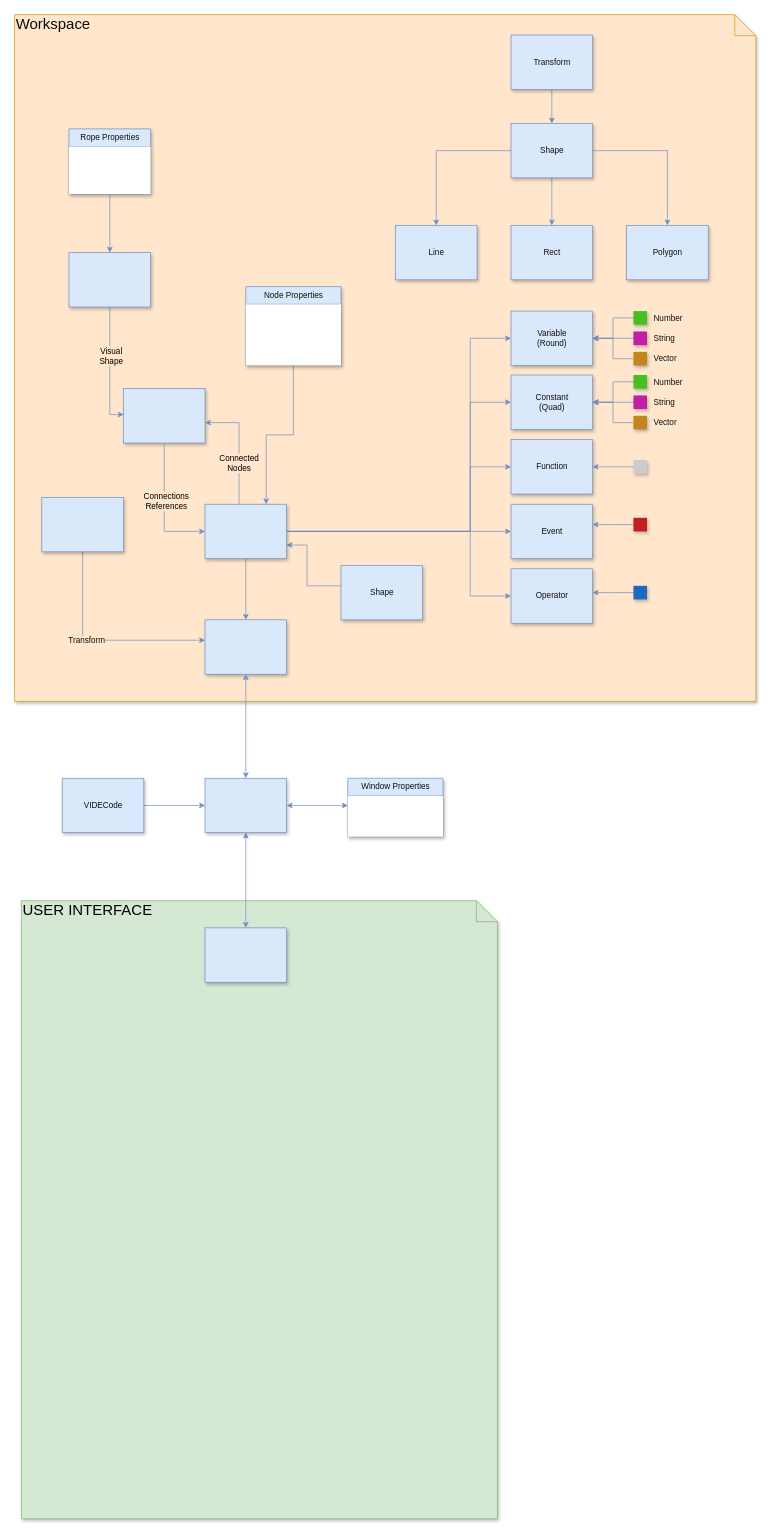
The diagram is 772 pixels wide and 1535 high, and some of its shapes have lost their labels. Each missing label, with the centre of its shape:
"Camera" belongs at (x=83, y=525).
"Connection" belongs at (x=164, y=416).
"From:Point To:Point Control:Point ..." belongs at (x=110, y=171).
"GUI" belongs at (x=246, y=955).
"Nodes" belongs at (x=246, y=532).
"Position:Point Name:String Inputs:Connection Outputs:Connection ..." belongs at (x=294, y=335).
"Rope" belongs at (x=110, y=280).
"Scene" belongs at (x=246, y=647).
"title:string width:number height:number ..." belongs at (x=396, y=817).
"Window (main)" belongs at (x=246, y=806).
